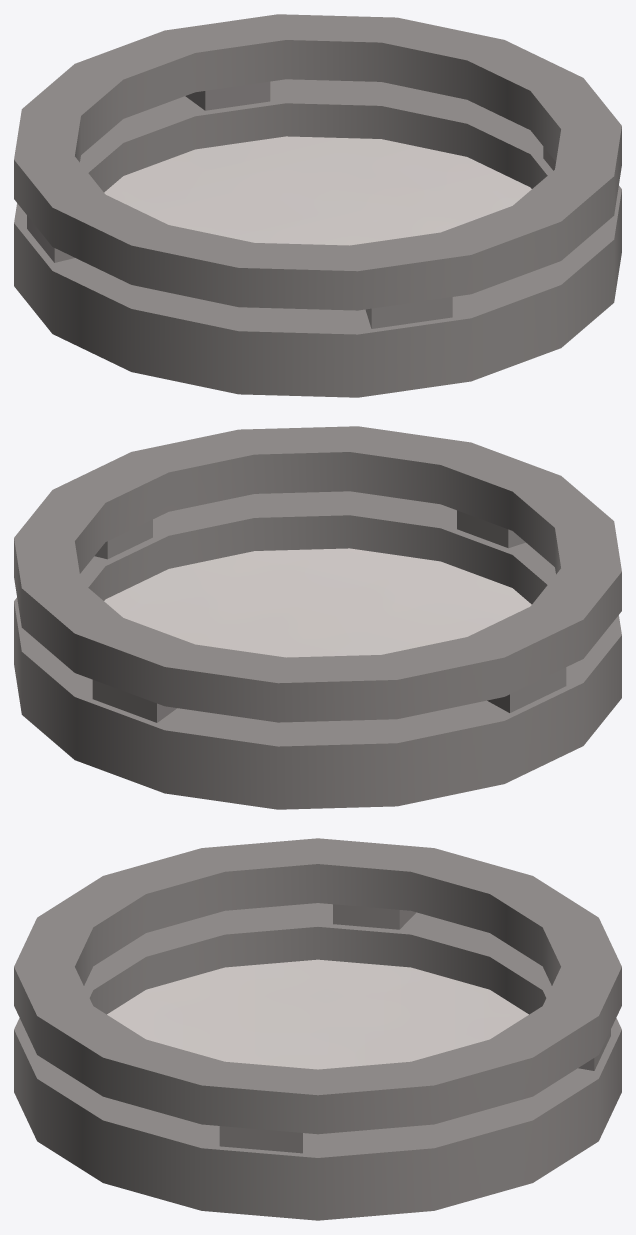
File: CeilingLight.fbx
3 views of the same model, one above another, from view 1: azimuth 30°, elevation 25°; view 2: azimuth 150°, elevation 25°; view 3: azimuth 270°, elevation 25° (orthographic).
Visible parts, largest first — view 1: Lamp, Light; view 2: Lamp, Light; view 3: Lamp, Light.
Part boxes in pixels (x1,y1,x2,y2): Lamp: [14, 14, 621, 397]; Light: [104, 136, 531, 245]; Lamp: [14, 426, 621, 809]; Light: [104, 548, 531, 657]; Lamp: [14, 838, 621, 1220]; Light: [107, 959, 528, 1069].
Bounding box in the file's own units: 0.4923 × 0.1121 × 0.4923.
